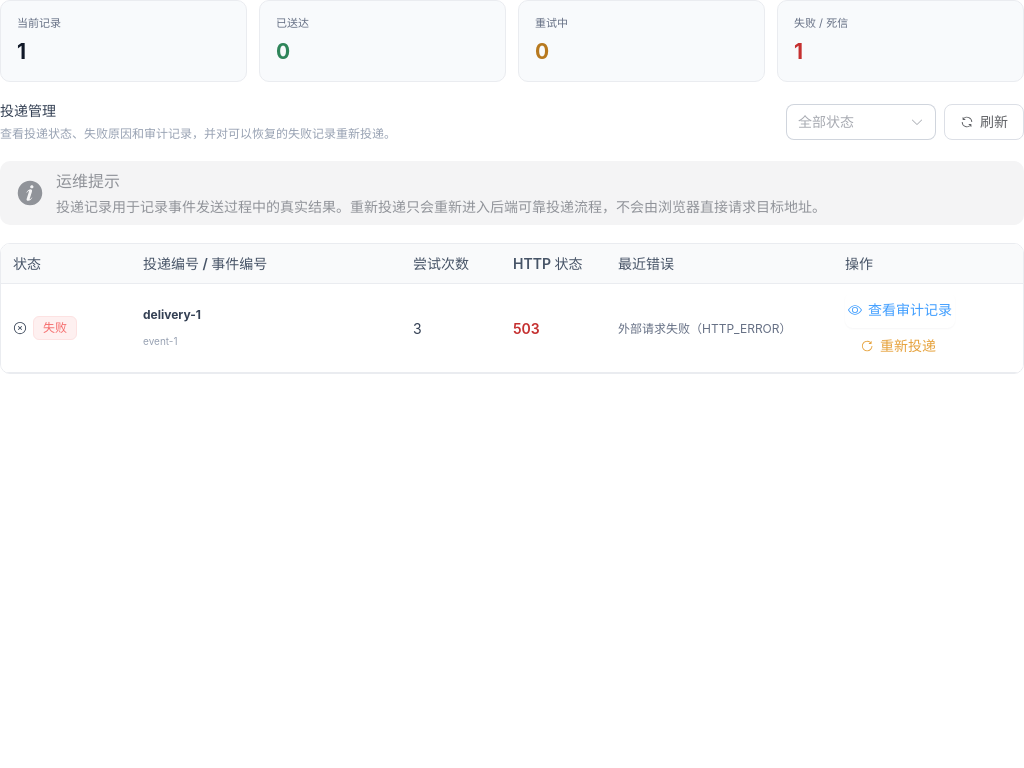
Test case: DeliveryConsole › 打开审计记录时按投递编号请求审计轨迹，并中文化操作类型
This screenshot has width=1024, height=768.
Click the button "查看审计记录".
click(900, 310)  # box [845,292,955,328]
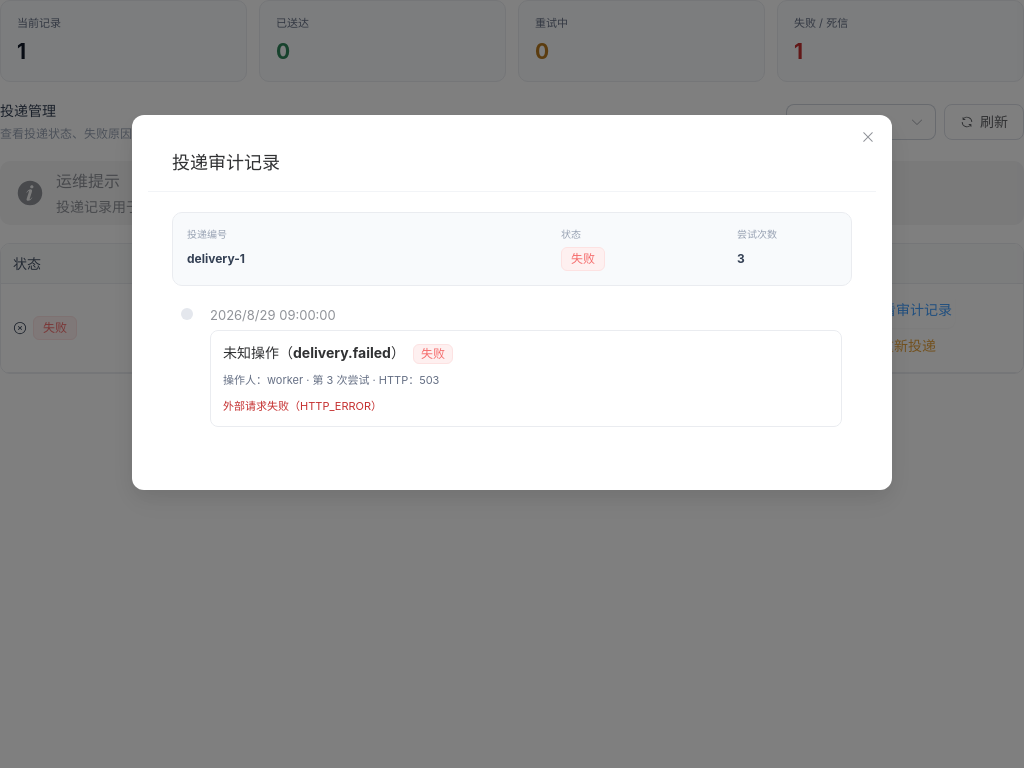
Now the text "未知操作（delivery.failed）" is shown, box [223,342,405,363]
